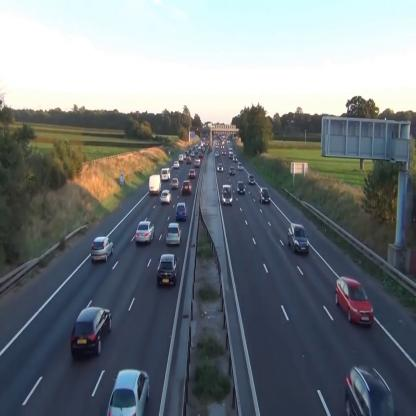car: (344, 367, 395, 416), (71, 306, 112, 357), (106, 368, 149, 416), (336, 277, 374, 326), (157, 253, 179, 287), (288, 223, 310, 254), (91, 237, 113, 263), (135, 221, 155, 244), (166, 222, 182, 245), (176, 202, 187, 220), (160, 190, 172, 205), (260, 187, 270, 204), (182, 180, 191, 195), (237, 182, 245, 196), (171, 178, 179, 188), (248, 174, 255, 185), (188, 169, 196, 178), (218, 164, 223, 172), (230, 166, 235, 174), (238, 162, 243, 170)
lorry: (148, 174, 162, 195), (222, 185, 233, 206), (161, 167, 171, 180)
